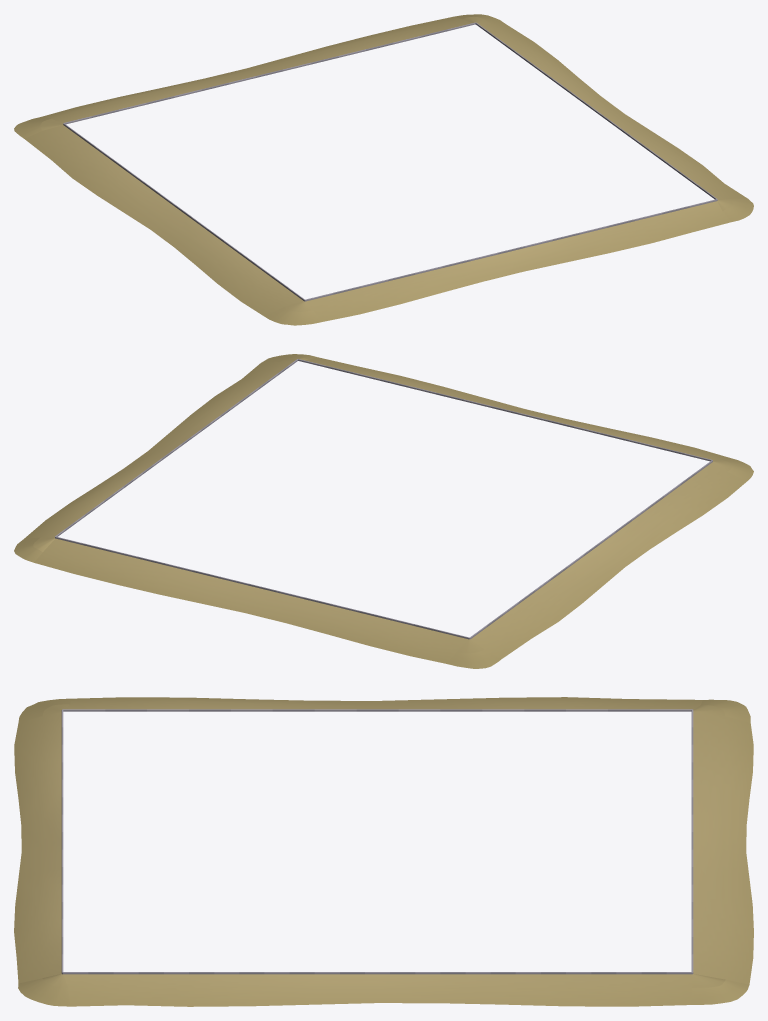
Rendered from SeaSurface.fbx.
3 views of the same model, one above another, from view 1: azimuth 30°, elevation 25°; view 2: azimuth 150°, elevation 25°; view 3: azimuth 270°, elevation 25° (orthographic). The views are drawn at different scales.
Visible parts, largest first — view 1: Water-03, Water-04, Water-01, Water-02; view 2: Water-02, Water-03, Water-01, Water-04; view 3: Water-01, Water-02, Water-04, Water-03.
Boxes of the visible parts, x1=… form: Water-03: x1=14, y1=116, x2=321, y2=325; Water-04: x1=305, y1=199, x2=731, y2=321; Water-01: x1=454, y1=14, x2=753, y2=221; Water-02: x1=42, y1=16, x2=475, y2=124; Water-02: x1=34, y1=536, x2=469, y2=663; Water-03: x1=447, y1=457, x2=753, y2=668; Water-01: x1=14, y1=354, x2=316, y2=562; Water-04: x1=298, y1=357, x2=728, y2=461; Water-01: x1=18, y1=972, x2=749, y2=1006; Water-02: x1=691, y1=710, x2=753, y2=984; Water-04: x1=14, y1=710, x2=63, y2=983; Water-03: x1=18, y1=697, x2=750, y2=722.
Bounding box in the file's own units: 43735 × 44156 × 852.
Materials: 1 (1 with a texture image).
